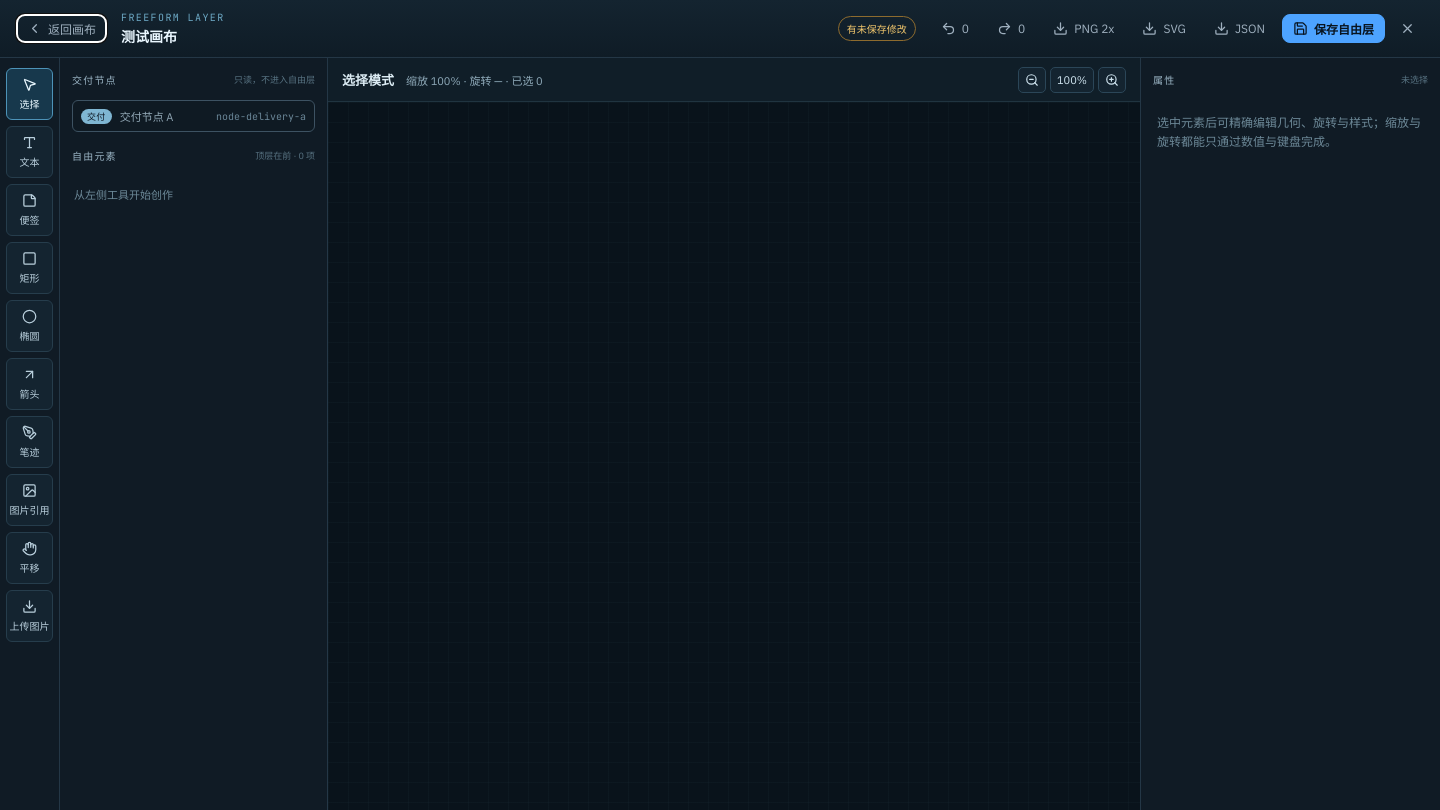
Test: AC1 七类自由元素的创建路径（FT-01..FT-07） › 用 文本 工具拖拽即可创建一个自由元素
Click the button "文本" at [30, 152], box x1=6 y1=126 x2=53 y2=178
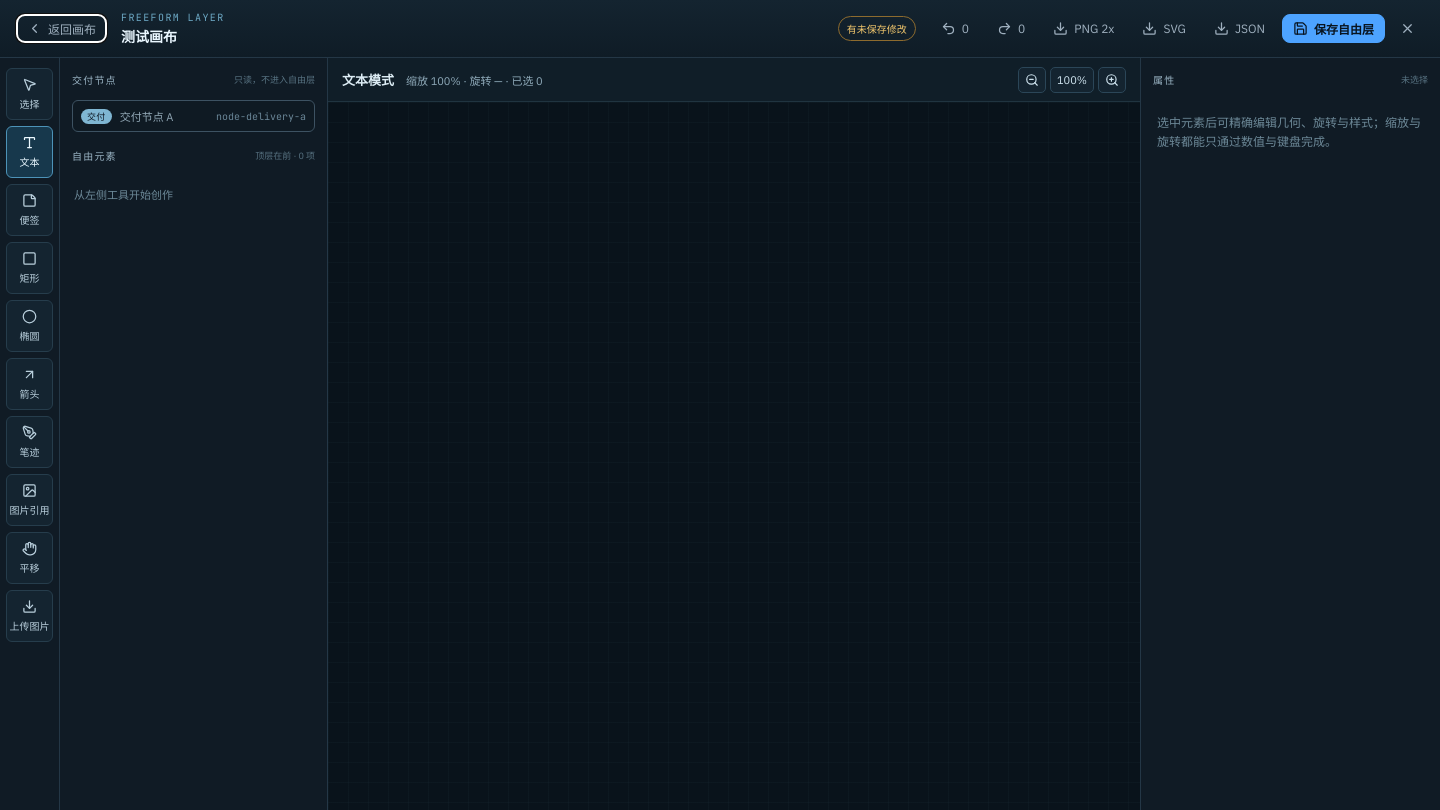
Press the mouse on the element with test id "freeform-viewport" at [734, 456], box x1=328 y1=102 x2=1140 y2=809
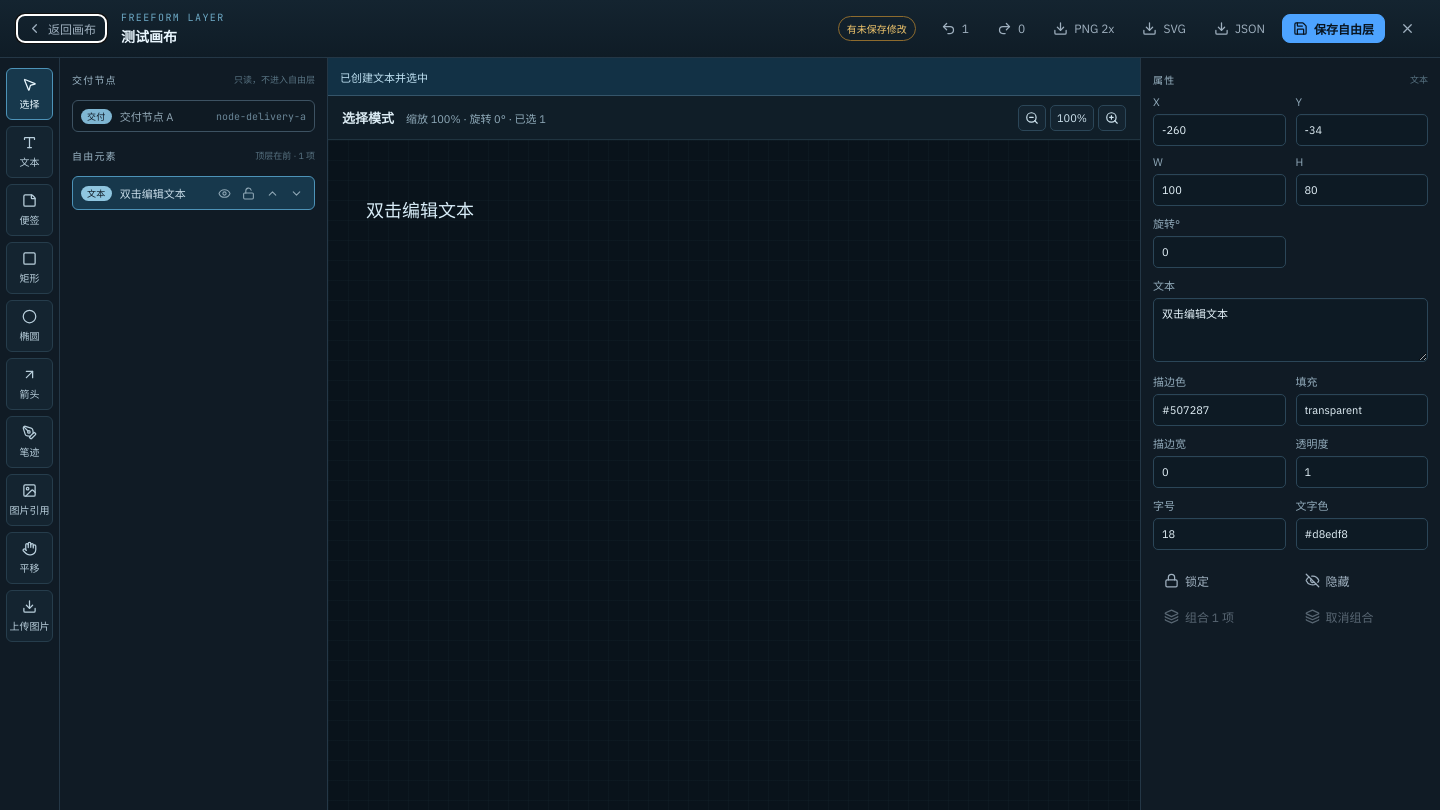
Check: the message with class "freeform-status-readout" shows "已选 1", box x1=406 y1=112 x2=546 y2=126
